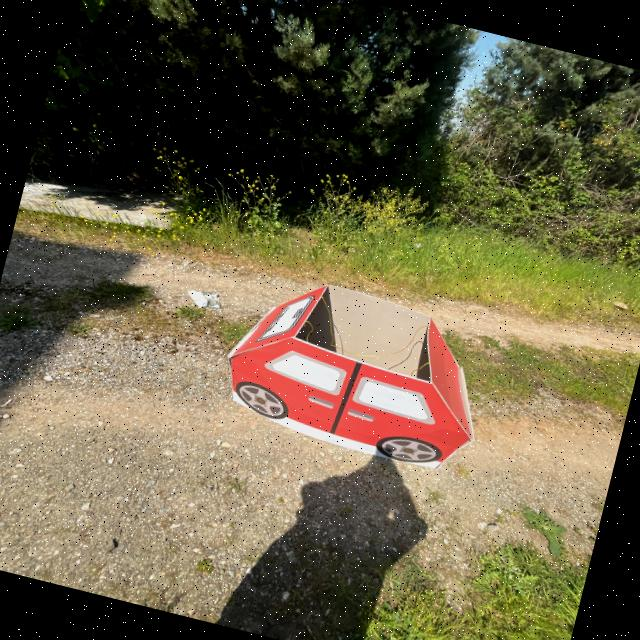red_car: (190, 257, 515, 505)
